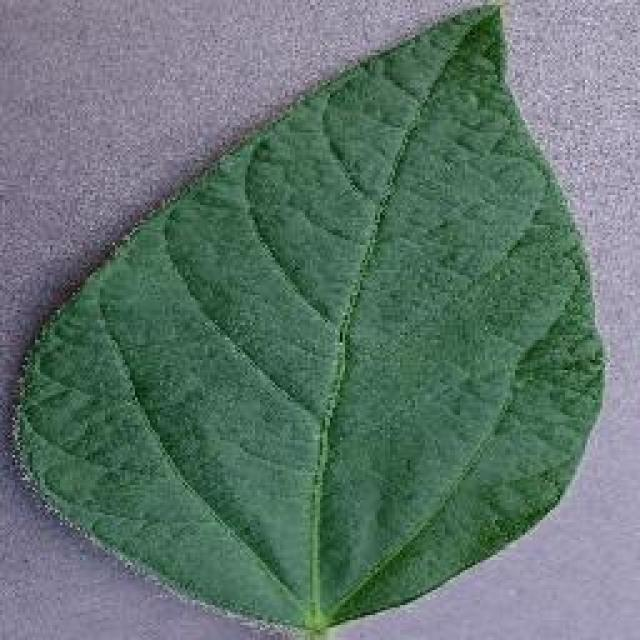Soy_healthy: (78, 97, 598, 553)
